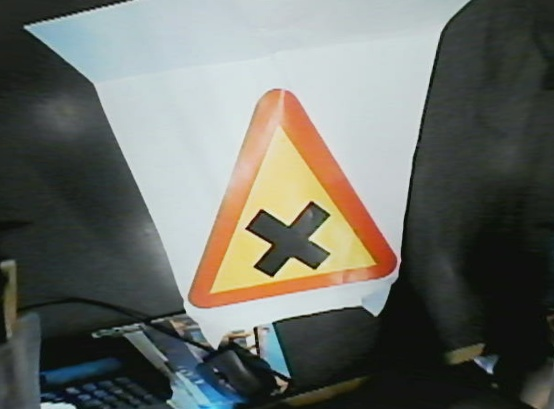junction: (176, 87, 415, 320)
